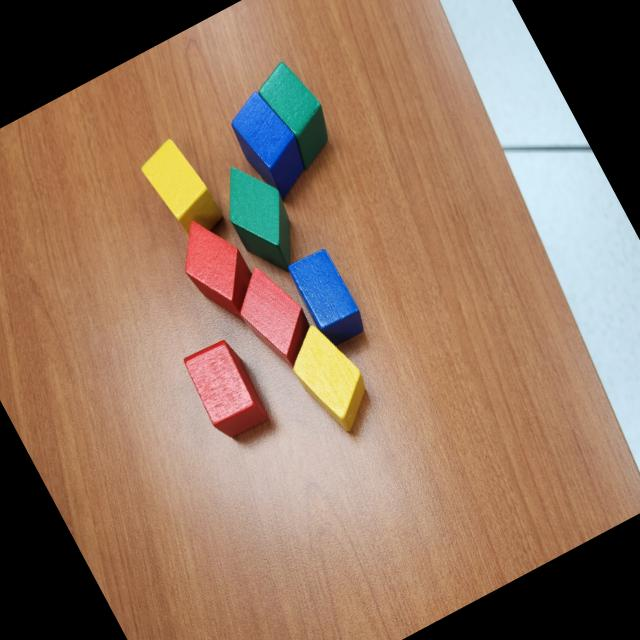blue: (219, 84, 319, 205), (284, 245, 371, 352)
green: (206, 150, 314, 284), (250, 54, 345, 172)
red: (165, 205, 272, 336), (223, 254, 326, 378), (179, 334, 273, 444)
yellow: (276, 312, 384, 443), (135, 132, 227, 245)
